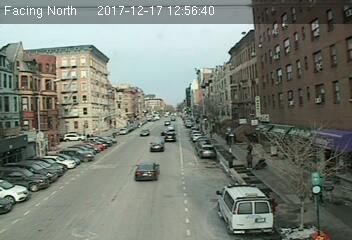car: (134, 161, 161, 182), (198, 145, 216, 158), (150, 140, 165, 153), (164, 132, 177, 144), (139, 129, 150, 137)
pedestrian: (245, 151, 254, 170), (227, 152, 235, 169)
police: (216, 181, 273, 236)
